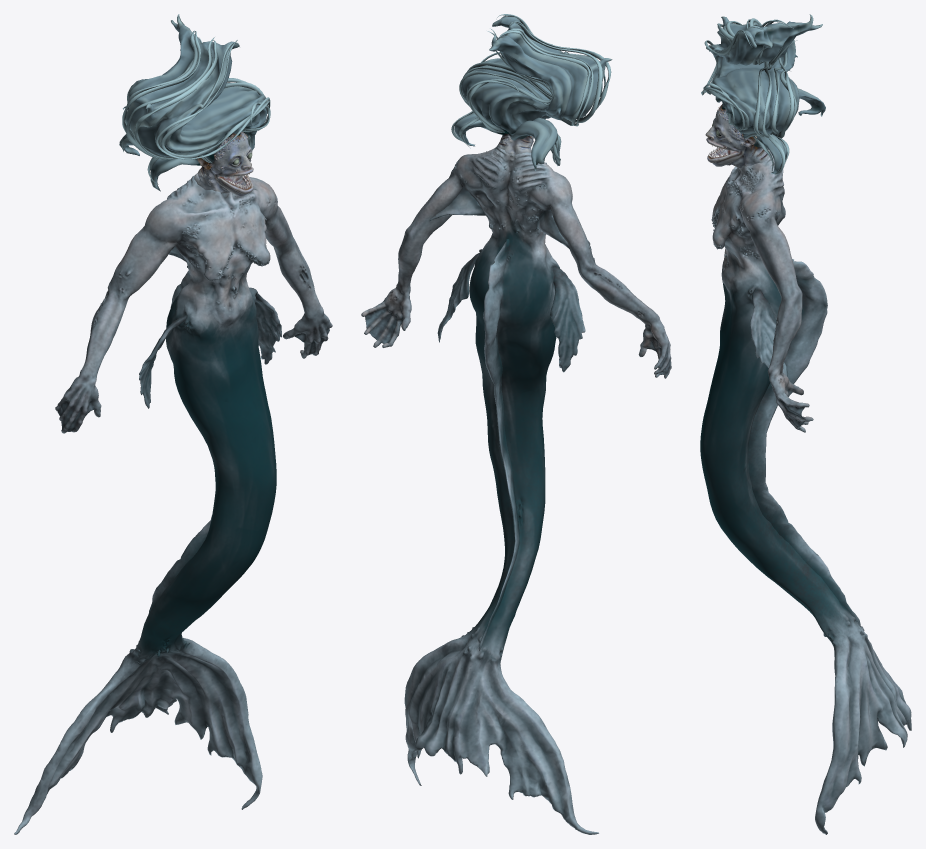
The model's file is creepy-source.glb.
3 renders of one model, left to right at view 1: azimuth 30°, elevation 25°; view 2: azimuth 150°, elevation 25°; view 3: azimuth 270°, elevation 25°, orthographic. The views are drawn at different scales.
Parts seen in each view (by area): view 1: Object_2, Object_5, Object_6, Object_3, Object_7; view 2: Object_2, Object_5, Object_3, Object_6; view 3: Object_2, Object_3, Object_5, Object_6, Object_7.
Part boxes in pixels (x1=…): Object_2: x1=14, y1=175, x2=332, y2=834; Object_5: x1=119, y1=14, x2=267, y2=191; Object_6: x1=122, y1=30, x2=270, y2=184; Object_3: x1=139, y1=246, x2=281, y2=613; Object_7: x1=194, y1=132, x2=253, y2=196; Object_2: x1=361, y1=146, x2=671, y2=834; Object_5: x1=454, y1=16, x2=612, y2=170; Object_3: x1=429, y1=187, x2=585, y2=650; Object_6: x1=451, y1=14, x2=611, y2=164; Object_2: x1=700, y1=151, x2=911, y2=834; Object_3: x1=748, y1=199, x2=860, y2=626; Object_5: x1=709, y1=14, x2=825, y2=173; Object_6: x1=701, y1=18, x2=797, y2=175; Object_7: x1=705, y1=104, x2=770, y2=168.
Bounding box in the file's own units: 431 × 1135 × 276.
Materials: 6 (5 with a texture image).
